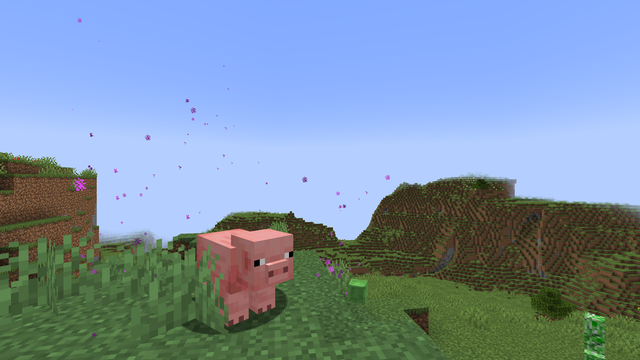cochons: (187, 227, 270, 326)
creepers: (578, 309, 611, 358)
slimes: (347, 278, 368, 303)
